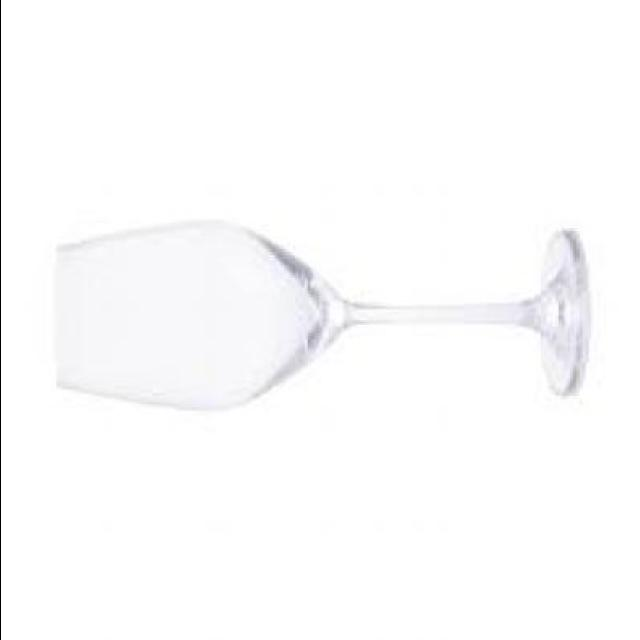kaca: (49, 220, 576, 410)
